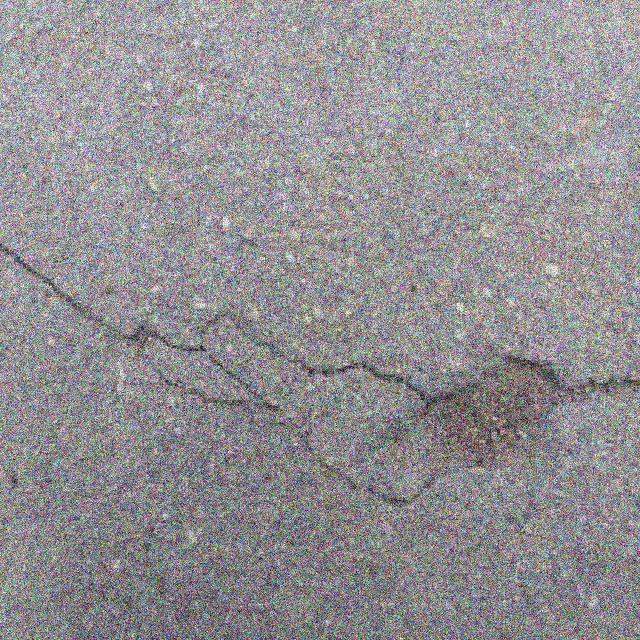SurfaceCrack: (0, 218, 638, 516)
